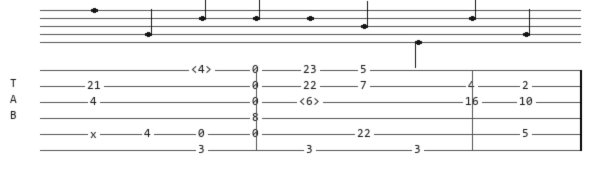0: (198, 128, 209, 140), (252, 64, 263, 76), (252, 128, 263, 140), (252, 96, 263, 108), (252, 80, 263, 92)
10: (519, 96, 537, 108)
16: (465, 96, 483, 108)
2: (522, 80, 533, 92)
21: (87, 80, 105, 92)
22: (303, 80, 321, 92), (357, 128, 375, 140)
23: (303, 64, 321, 76)
3: (198, 144, 209, 156), (306, 144, 317, 156), (414, 144, 425, 156)
4: (90, 96, 101, 108), (144, 128, 155, 140), (468, 80, 479, 92)
5: (360, 64, 371, 76), (522, 128, 533, 140)
7: (360, 80, 371, 92)
8: (252, 112, 263, 124)
harmonic: (191, 64, 216, 76), (299, 96, 324, 108)
x: (90, 129, 101, 139)
